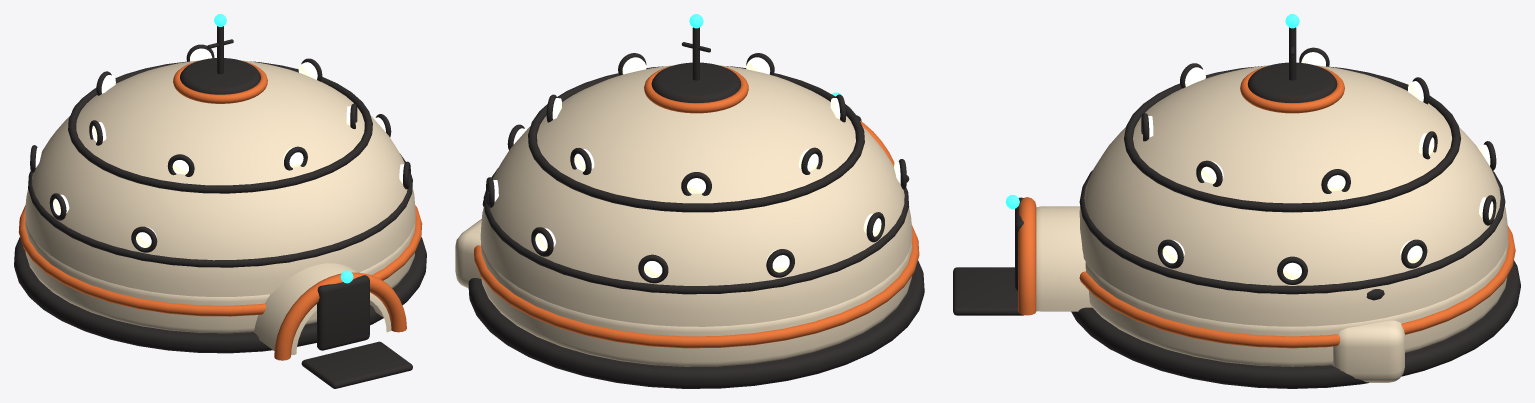
File: dome-old.glb
3 views of the same model, side by side, from view 1: azimuth 30°, elevation 25°; view 2: azimuth 150°, elevation 25°; view 3: azimuth 270°, elevation 25° (orthographic). The views are drawn at different scales.
Visible parts, largest first — view 1: Sphere, Cylinder, Cylinder.001, Torus.002, Torus, Torus.001, Cube.001, Cylinder.019, Cube.002, Torus.019, Cylinder.017, Torus.018 (+1 smaller); view 2: Sphere, Cylinder.001, Cylinder, Torus, Torus.002, Torus.001, Cylinder.017, Torus.018, Cube.003, Torus.006, Torus.007, Cylinder.018; view 3: Sphere, Cylinder.001, Cylinder, Torus.002, Torus, Cylinder.019, Torus.001, Cube.003, Cube.002, Cylinder.017, Torus.019, Torus.018.
Boxes of the visible parts, x1=… form: Sphere: x1=25, y1=60, x2=415, y2=296; Cylinder: x1=14, y1=237, x2=426, y2=353; Cylinder.001: x1=25, y1=219, x2=415, y2=333; Torus.002: x1=68, y1=61, x2=372, y2=193; Torus: x1=18, y1=205, x2=422, y2=316; Torus.001: x1=28, y1=154, x2=412, y2=267; Cube.001: x1=317, y1=275, x2=369, y2=350; Cylinder.019: x1=253, y1=263, x2=391, y2=355; Cube.002: x1=301, y1=341, x2=412, y2=388; Torus.019: x1=274, y1=272, x2=406, y2=360; Cylinder.017: x1=180, y1=58, x2=260, y2=94; Torus.018: x1=173, y1=61, x2=267, y2=103; Sphere: x1=480, y1=65, x2=912, y2=326; Cylinder.001: x1=481, y1=242, x2=912, y2=366; Cylinder: x1=468, y1=260, x2=924, y2=388; Torus: x1=474, y1=225, x2=919, y2=348; Torus.002: x1=528, y1=66, x2=864, y2=212; Torus.001: x1=483, y1=168, x2=909, y2=294; Cylinder.017: x1=651, y1=62, x2=741, y2=103; Torus.018: x1=644, y1=66, x2=748, y2=113; Cube.003: x1=455, y1=219, x2=481, y2=288; Torus.006: x1=638, y1=254, x2=668, y2=283; Torus.007: x1=766, y1=249, x2=794, y2=277; Cylinder.018: x1=692, y1=27, x2=699, y2=80; Sphere: x1=1079, y1=65, x2=1508, y2=326; Cylinder.001: x1=1085, y1=239, x2=1508, y2=366; Cylinder: x1=1071, y1=260, x2=1520, y2=388; Torus.002: x1=1124, y1=66, x2=1461, y2=212; Torus: x1=1079, y1=225, x2=1515, y2=348; Cylinder.019: x1=1036, y1=206, x2=1091, y2=311; Torus.001: x1=1079, y1=170, x2=1505, y2=294; Cube.003: x1=1332, y1=320, x2=1404, y2=382; Cube.002: x1=953, y1=267, x2=1023, y2=315; Cylinder.017: x1=1247, y1=62, x2=1337, y2=102; Torus.019: x1=1018, y1=197, x2=1036, y2=315; Torus.018: x1=1240, y1=66, x2=1344, y2=113.
Bounding box in the file's own units: 2.22 × 1.51 × 2.76.
